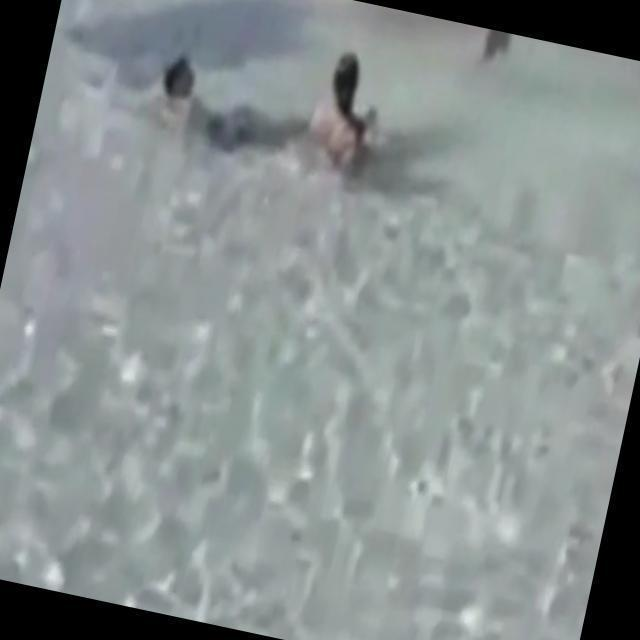swimming: (289, 37, 421, 203), (144, 55, 288, 150)
